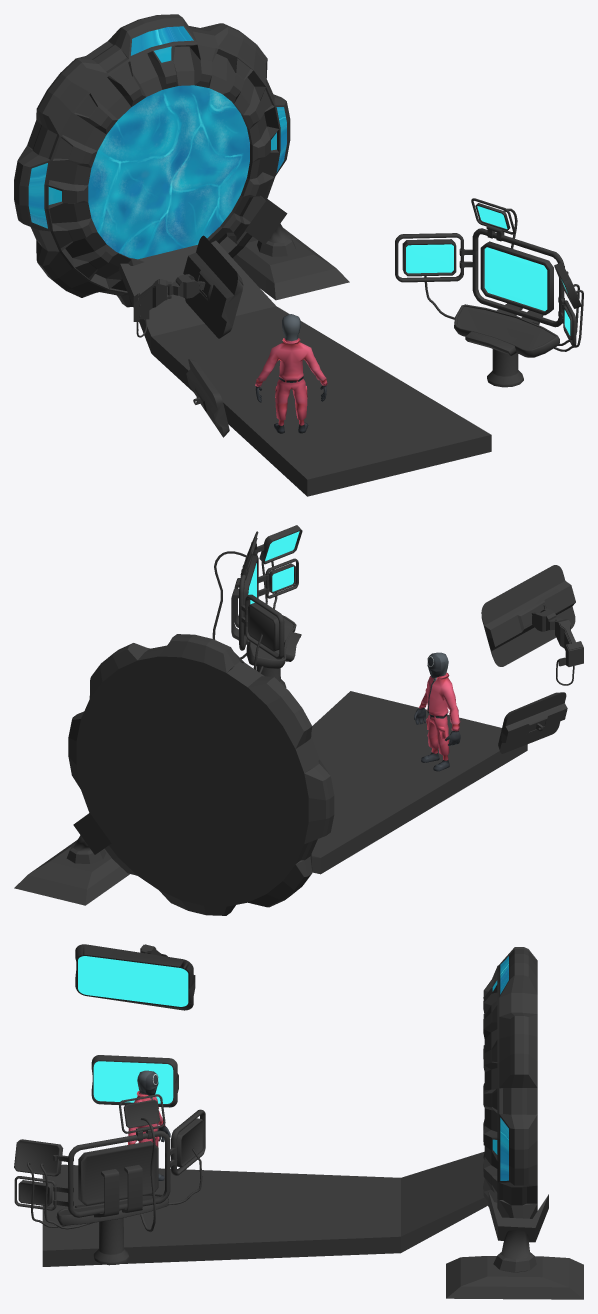
Rendered from old_scene.glb.
3 renders of one model, top to bottom at view 1: azimuth 30°, elevation 25°; view 2: azimuth 150°, elevation 25°; view 3: azimuth 270°, elevation 25°, orthographic. The views are drawn at different scales.
Visible parts, largest first — view 1: Cube.001, Cylinder, Cylinder.002, Object003, Cube, Object003.001, Monitor.001, squid_circle, Cylinder.001, Monitor, Monitor.002; view 2: Cylinder, Cube.001, Cylinder.001, Object003, Monitor.001, Cube, squid_circle, Monitor.002, Monitor, Object003.001; view 3: Cube.001, Object003, Cylinder, Cube, Monitor.001, Monitor.002, squid_circle, Cylinder.001.
Boxes of the visible parts, left/top/right/bottom form: Cube.001: left=118, top=240, right=491, bottom=496; Cylinder: left=14, top=14, right=290, bottom=307; Cylinder.002: left=88, top=85, right=249, bottom=259; Object003: left=395, top=198, right=583, bottom=387; Cube: left=232, top=199, right=349, bottom=300; Object003.001: left=406, top=206, right=570, bottom=335; Monitor.001: left=183, top=235, right=243, bottom=338; squid_circle: left=255, top=314, right=327, bottom=433; Cylinder.001: left=28, top=26, right=286, bottom=251; Monitor: left=133, top=274, right=199, bottom=337; Monitor.002: left=186, top=359, right=229, bottom=437; Cylinder: left=68, top=634, right=334, bottom=915; Cube.001: left=311, top=691, right=527, bottom=874; Cylinder.001: left=76, top=657, right=308, bottom=901; Object003: left=212, top=525, right=302, bottom=687; Monitor.001: left=481, top=565, right=575, bottom=666; Cube: left=14, top=813, right=129, bottom=905; squid_circle: left=414, top=652, right=460, bottom=771; Monitor.002: left=498, top=692, right=567, bottom=753; Monitor: left=532, top=608, right=583, bottom=685; Object003.001: left=248, top=531, right=299, bottom=604; Cube.001: left=42, top=1151, right=488, bottom=1266; Object003: left=14, top=1094, right=205, bottom=1265; Cylinder: left=483, top=947, right=537, bottom=1218; Cube: left=446, top=1192, right=583, bottom=1299; Monitor.001: left=75, top=944, right=195, bottom=1010; Monitor.002: left=91, top=1055, right=178, bottom=1107; squid_circle: left=128, top=1070, right=170, bottom=1180; Cylinder.001: left=492, top=956, right=508, bottom=1180.
Size of the model in its own units: 7.92 by 5.5 by 10.37.
4 materials, 2 textured.
